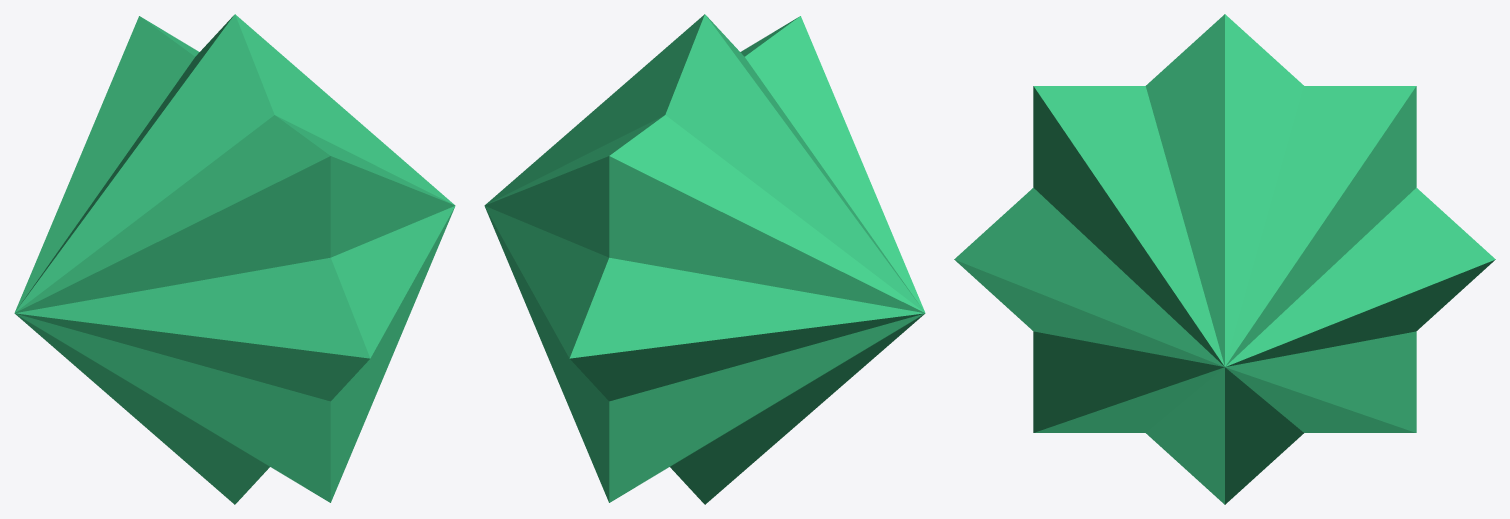
File: item_essence_speed.fbx
3 views of the same model, side by side, from view 1: azimuth 30°, elevation 25°; view 2: azimuth 150°, elevation 25°; view 3: azimuth 270°, elevation 25° (orthographic).
Visible parts, largest first — view 1: Plane; view 2: Plane; view 3: Plane.
Boxes of the visible parts, x1=… form: Plane: x1=14, y1=14, x2=455, y2=504; Plane: x1=484, y1=14, x2=925, y2=504; Plane: x1=954, y1=14, x2=1495, y2=504.
Bounding box in the file's own units: 266 × 283 × 283.
